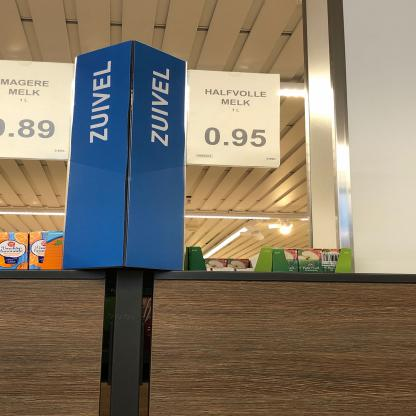prtg: (188, 71, 281, 168), (1, 60, 76, 162)
